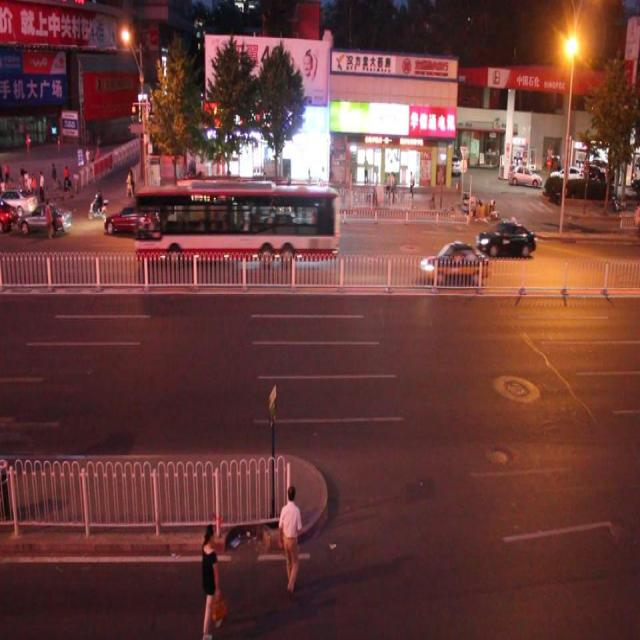bus: (153, 184, 240, 259)
car: (420, 238, 488, 284), (475, 217, 535, 257), (17, 197, 72, 238), (103, 200, 159, 237), (1, 183, 38, 216)
van: (134, 183, 339, 260)
